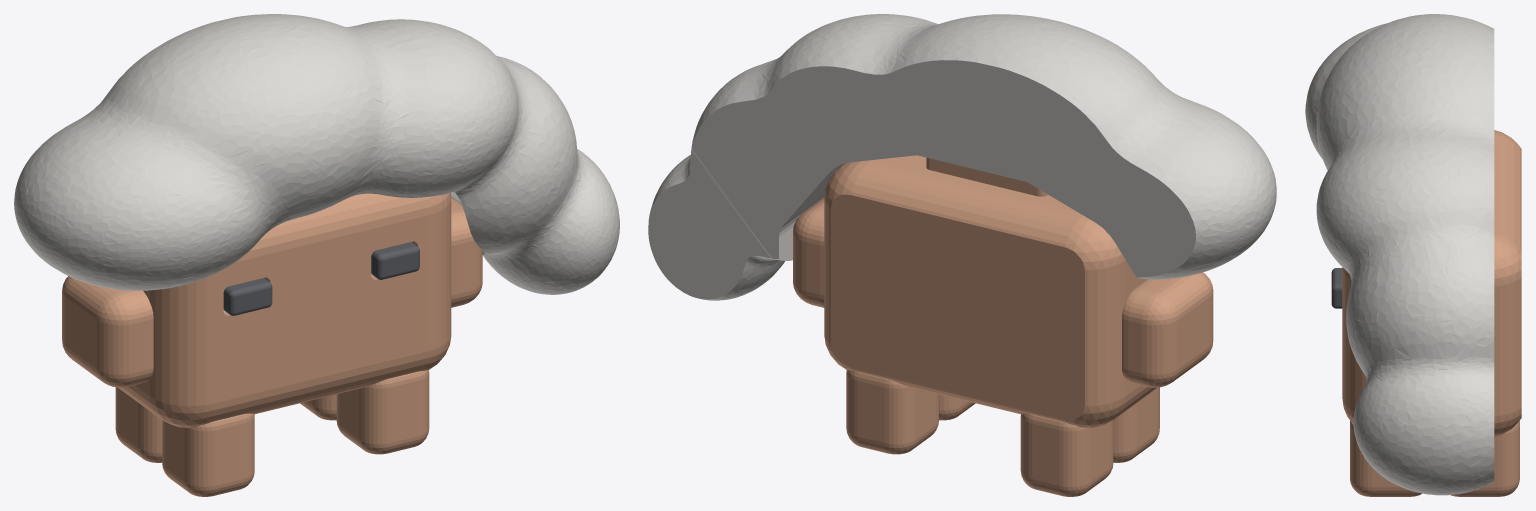
The model's file is A4-assembled.glb.
3 renders of one model, left to right at view 1: azimuth 30°, elevation 25°; view 2: azimuth 150°, elevation 25°; view 3: azimuth 270°, elevation 25°, orthographic. The views are drawn at different scales.
Visible parts, largest first — view 1: A4_cloud, A4_clawd, A4_clawd_eye_1, A4_clawd_eye_2; view 2: A4_cloud, A4_clawd; view 3: A4_cloud, A4_clawd, A4_clawd_eye_2.
Boxes of the visible parts, x1=… form: A4_cloud: x1=14, y1=14, x2=619, y2=294; A4_clawd: x1=62, y1=193, x2=482, y2=496; A4_clawd_eye_1: x1=223, y1=278, x2=272, y2=315; A4_clawd_eye_2: x1=371, y1=242, x2=419, y2=279; A4_cloud: x1=648, y1=14, x2=1276, y2=300; A4_clawd: x1=793, y1=155, x2=1213, y2=496; A4_cloud: x1=1305, y1=14, x2=1494, y2=495; A4_clawd: x1=1342, y1=130, x2=1521, y2=496; A4_clawd_eye_2: x1=1331, y1=268, x2=1342, y2=308.
Size of the model in its own units: 0.0709 by 0.048 by 0.0237.
